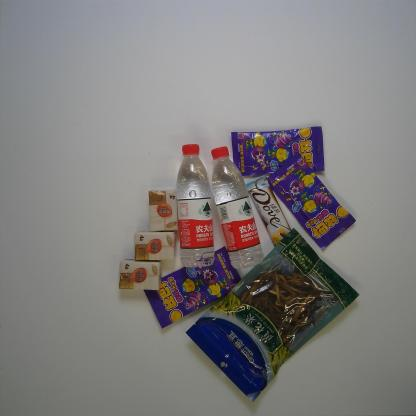Candy: (267, 152, 356, 250), (144, 246, 242, 329), (230, 126, 324, 176)
Chocolate: (245, 174, 294, 255)
Dried Food: (186, 227, 360, 403)
Drink: (211, 146, 265, 270), (176, 144, 216, 268)
Tissue: (118, 258, 162, 290), (148, 189, 179, 232), (134, 230, 176, 260)
